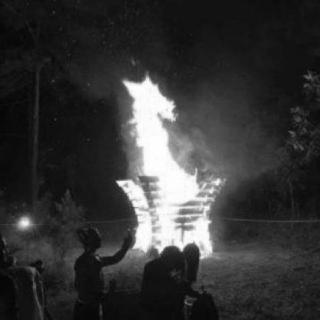Fire: (114, 68, 228, 256)
other: (13, 208, 37, 234)
